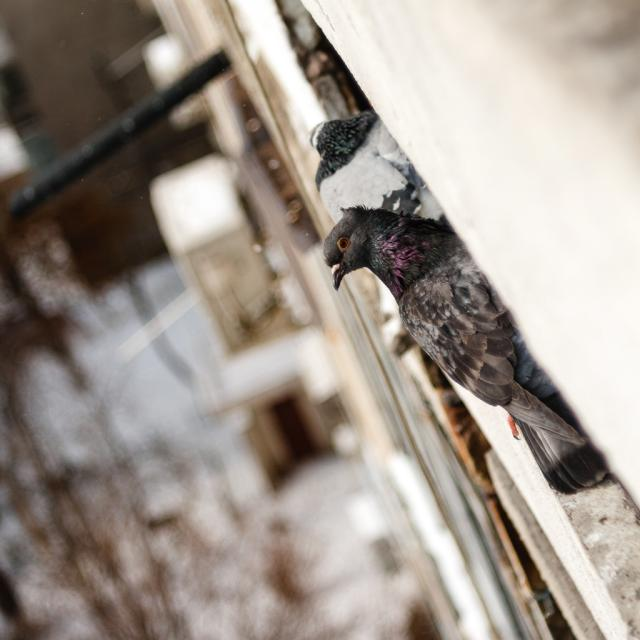Chicken: (316, 199, 554, 491)
